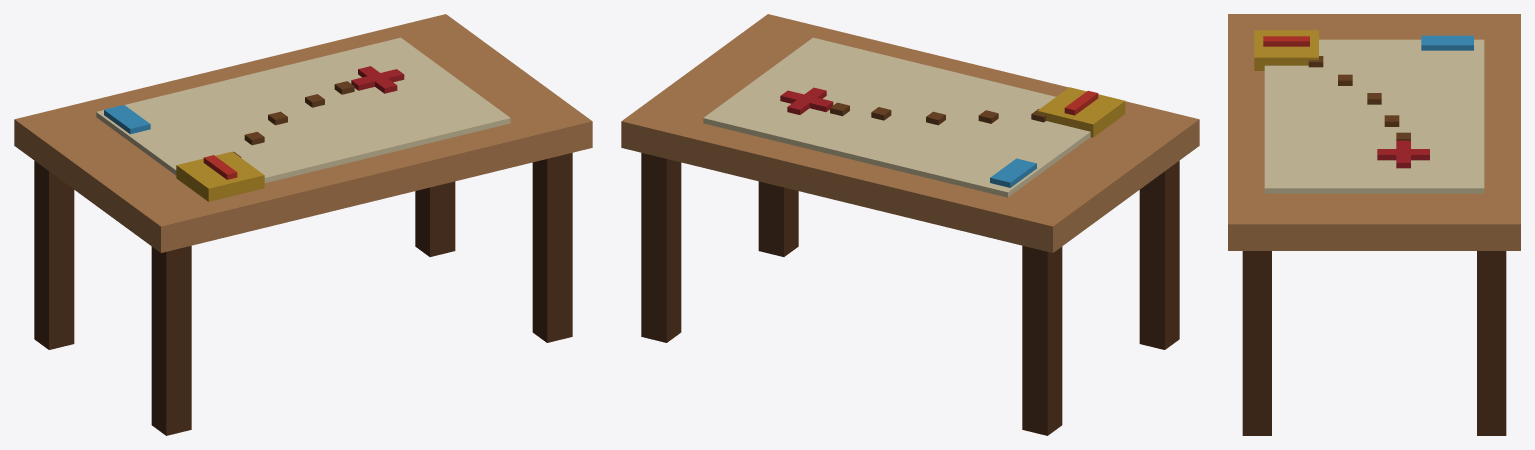
The model's file is dba-map-table.glb.
3 renders of one model, left to right at view 1: azimuth 30°, elevation 25°; view 2: azimuth 150°, elevation 25°; view 3: azimuth 270°, elevation 25°, orthographic.
Parts seen in each view (by area): view 1: box-prop; view 2: box-prop; view 3: box-prop.
Part boxes in pixels (x1,y1,x2,y2): box-prop: (14,14,592,435); box-prop: (621,14,1199,435); box-prop: (1228,14,1520,435).
Bounding box in the file's own units: 1.7 × 0.89 × 1.
